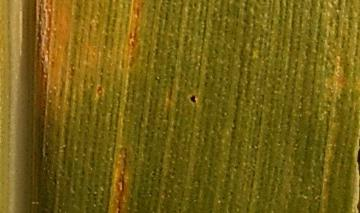tarspot: (354, 136, 360, 213), (188, 93, 196, 101)
